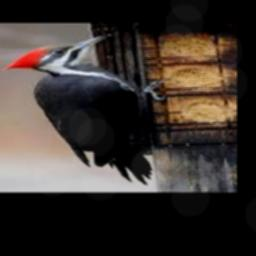Woodpecker: (3, 34, 167, 185)
